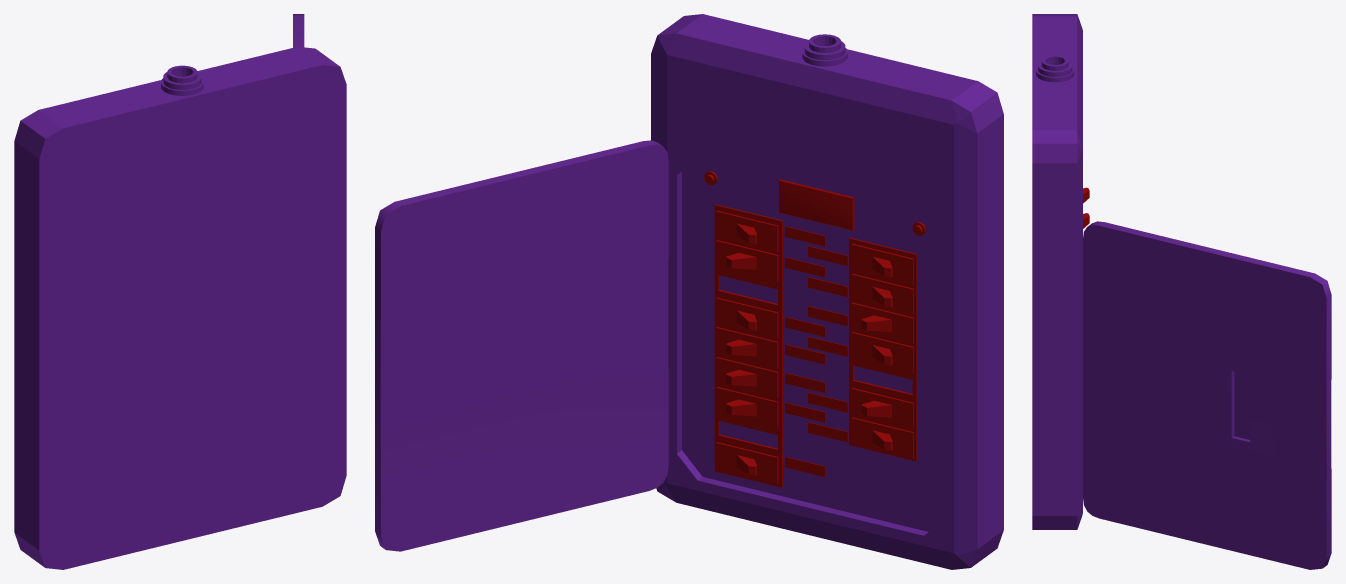
The model's file is Fuse_Panel_Update.fbx.
The picture shows the model from 3 angles, left to right: view 1: azimuth 30°, elevation 25°; view 2: azimuth 150°, elevation 25°; view 3: azimuth 270°, elevation 25°; orthographic projection. The views are drawn at different scales.
Visible parts, largest first — view 1: Box004, Cylinder017; view 2: Box004, Cylinder015, Box075, Box019, Box071, Cylinder017; view 3: Cylinder015, Box004, Cylinder017.
Part boxes in pixels (x1,y1,x2,y2): Box004: (14,46,346,569); Cylinder017: (161,65,203,95); Box004: (651,14,1003,569); Cylinder015: (375,140,668,551); Box075: (716,210,913,483); Box019: (714,204,917,487); Box071: (779,179,854,476); Cylinder017: (802,34,847,66); Cylinder015: (1083,221,1331,569); Box004: (1032,14,1082,529); Cylinder017: (1036,55,1074,82).
Bounding box in the file's own units: 0.5917 × 0.3977 × 0.6027.
